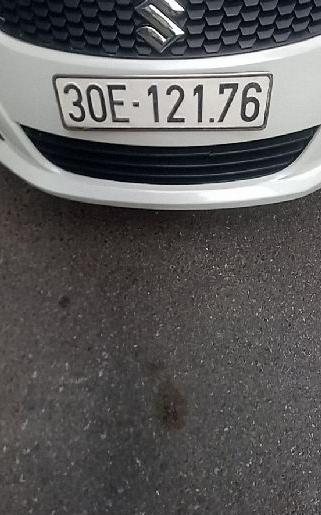Plate-iWeP: (59, 73, 273, 129)
